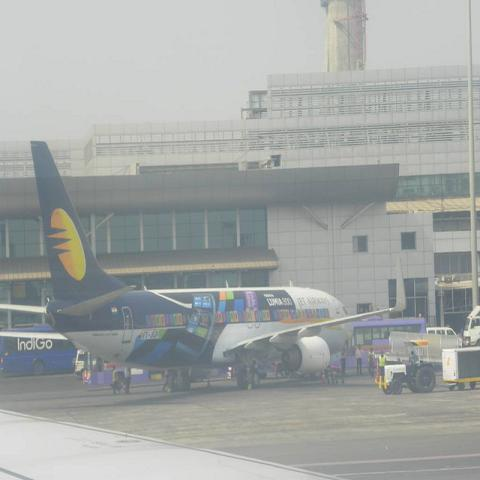bus: (330, 317, 427, 368), (0, 324, 76, 376)
car: (426, 327, 464, 348)
truck: (375, 339, 436, 395), (462, 305, 479, 348)
